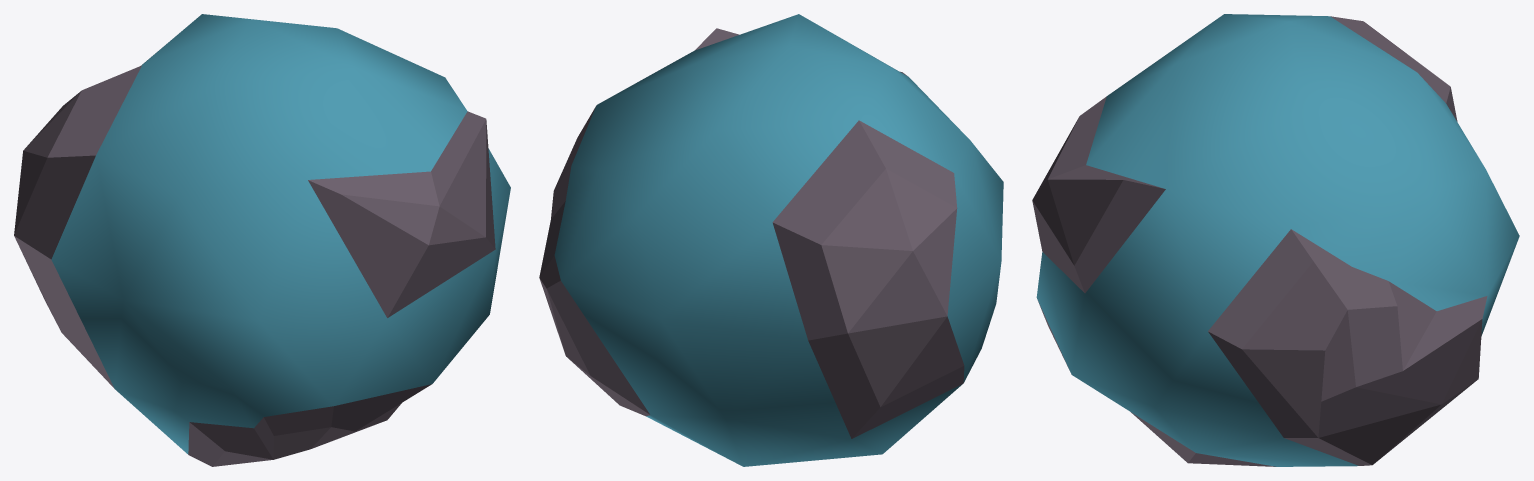
The model's file is Stone_Magik.fbx.
3 views of the same model, side by side, from view 1: azimuth 30°, elevation 25°; view 2: azimuth 150°, elevation 25°; view 3: azimuth 270°, elevation 25° (orthographic). The views are drawn at different scales.
Parts seen in each view (by area): view 1: Stone_Magik; view 2: Stone_Magik; view 3: Stone_Magik.
Part boxes in pixels (x1=…): Stone_Magik: x1=14, y1=14, x2=510, y2=466; Stone_Magik: x1=539, y1=14, x2=1003, y2=466; Stone_Magik: x1=1032, y1=14, x2=1519, y2=466.
Size of the model in its own units: 0.616 by 0.5845 by 0.5955.
